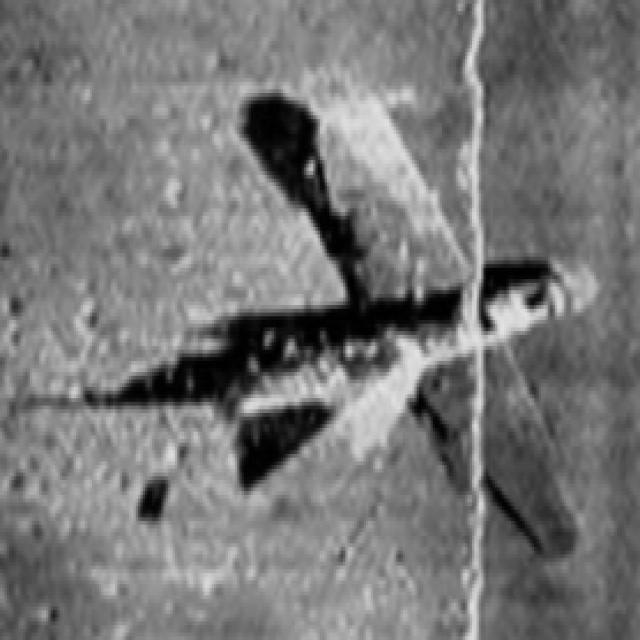plane: (224, 56, 606, 584)
